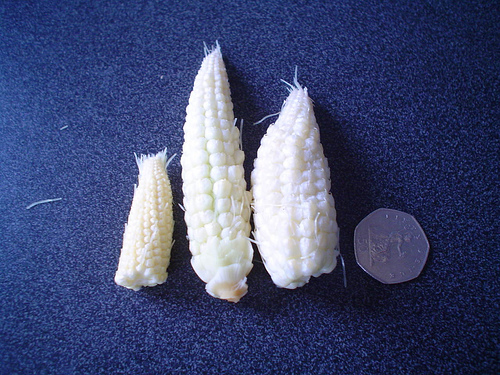corn: (179, 44, 254, 304), (251, 84, 338, 290), (113, 143, 174, 294)
